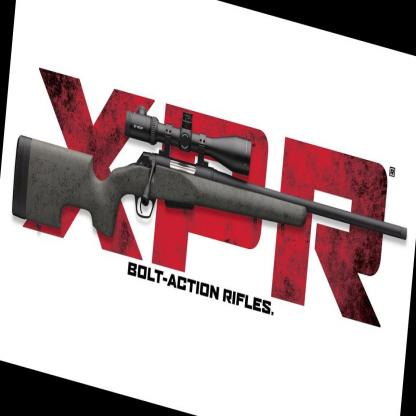rifle: (7, 73, 413, 323)
